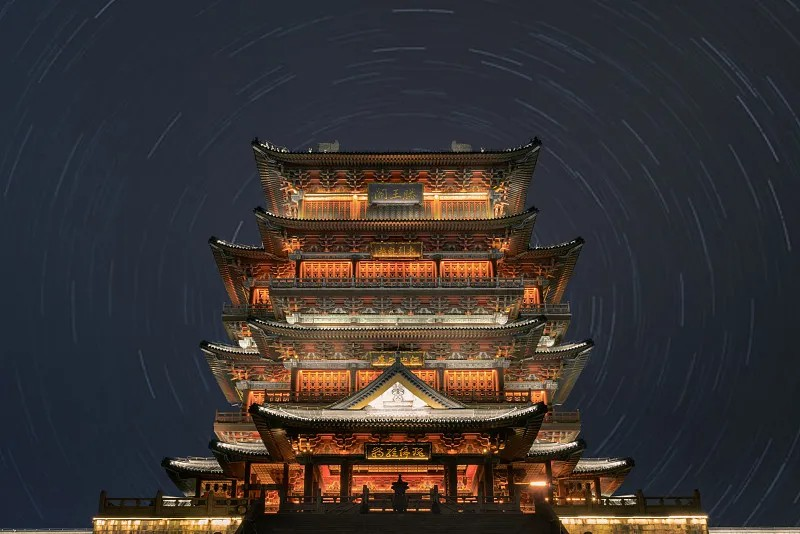Teng: (90, 135, 635, 512)
